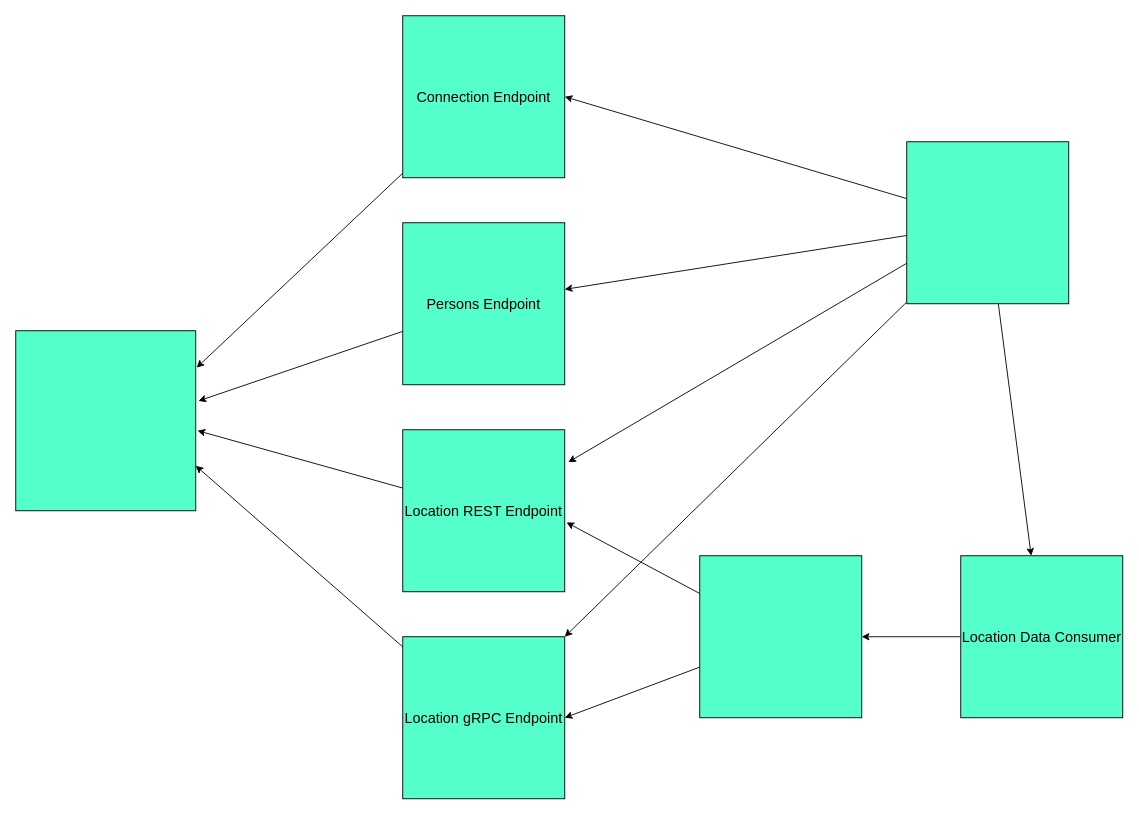
Image size: 1139x815. Some labels were removed from this diagram. The box of each missing label's shape, as (x1, y1, x2, y2) in pixels:
Database: (906, 141, 1069, 304)
Frontend Client: (15, 330, 196, 511)
Kafka Cluster: (699, 555, 862, 718)
